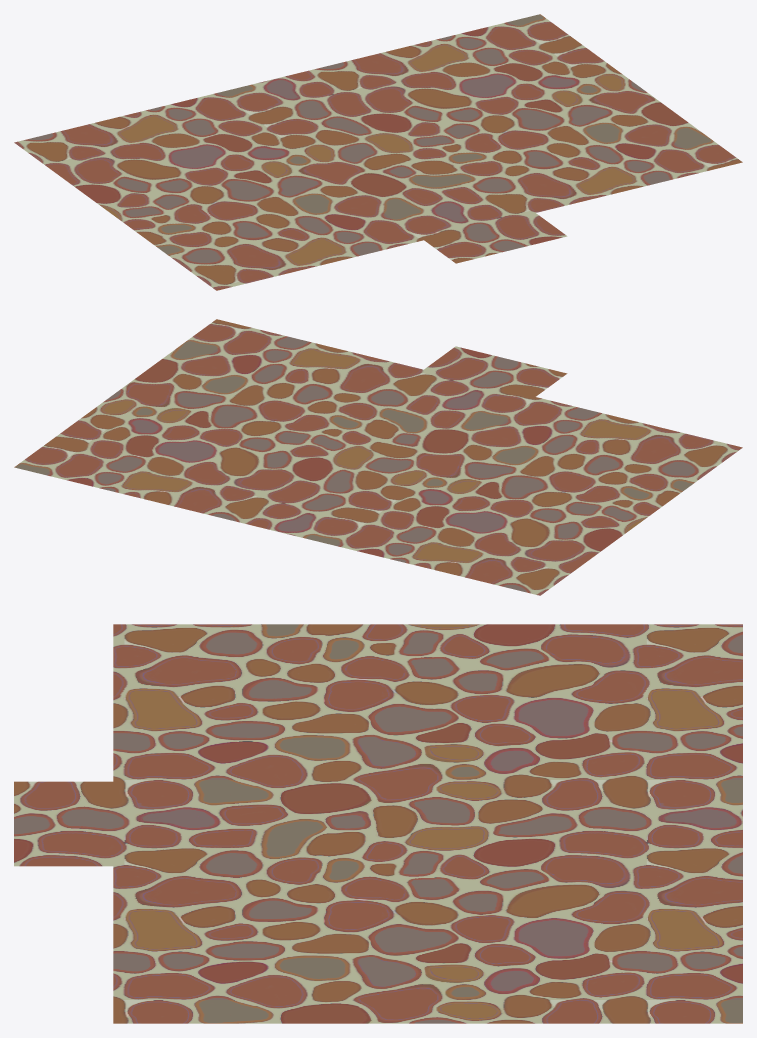
The model's file is Floor03_d01.FBX.
3 views of the same model, one above another, from view 1: azimuth 30°, elevation 25°; view 2: azimuth 150°, elevation 25°; view 3: azimuth 270°, elevation 25° (orthographic). The views are drawn at different scales.
Visible parts, largest first — view 1: Floor03_d01; view 2: Floor03_d01; view 3: Floor03_d01.
Boxes of the visible parts, bbox=[...] form: Floor03_d01: bbox=[14, 14, 742, 290]; Floor03_d01: bbox=[14, 319, 742, 595]; Floor03_d01: bbox=[14, 624, 742, 1023].
Size of the model in its own units: 900 by 0.000446 by 695.
Materials: 1 (1 with a texture image).
